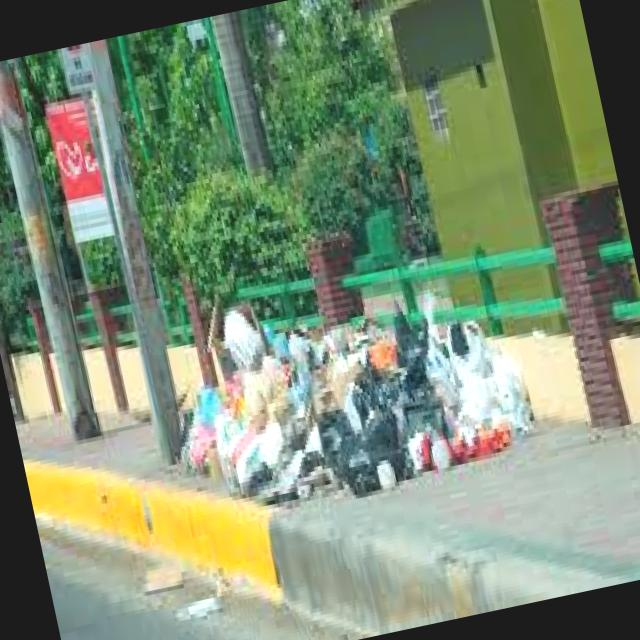garbage: (144, 223, 550, 531)
